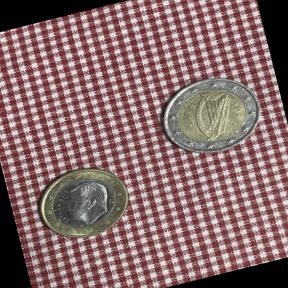coin: (147, 63, 273, 171), (27, 156, 140, 252)
